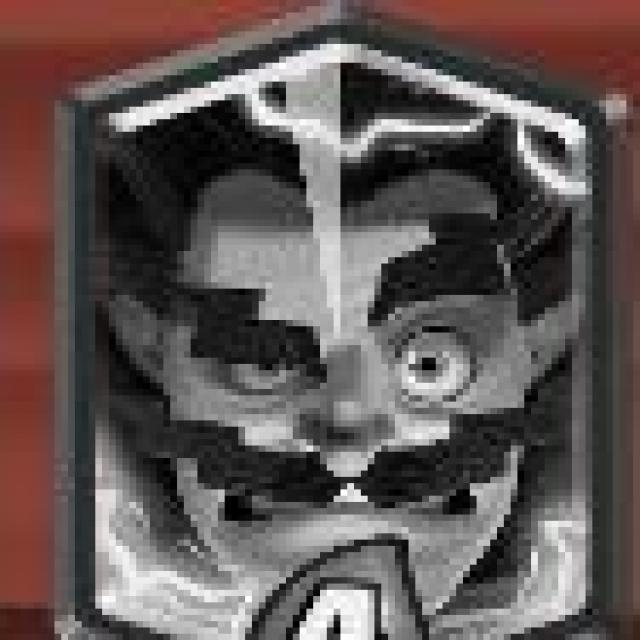Electro_Wizard: (50, 0, 609, 639)
